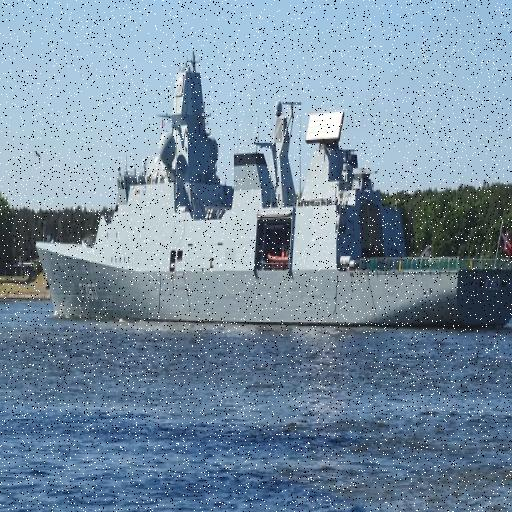Fragata: (34, 51, 512, 328)
